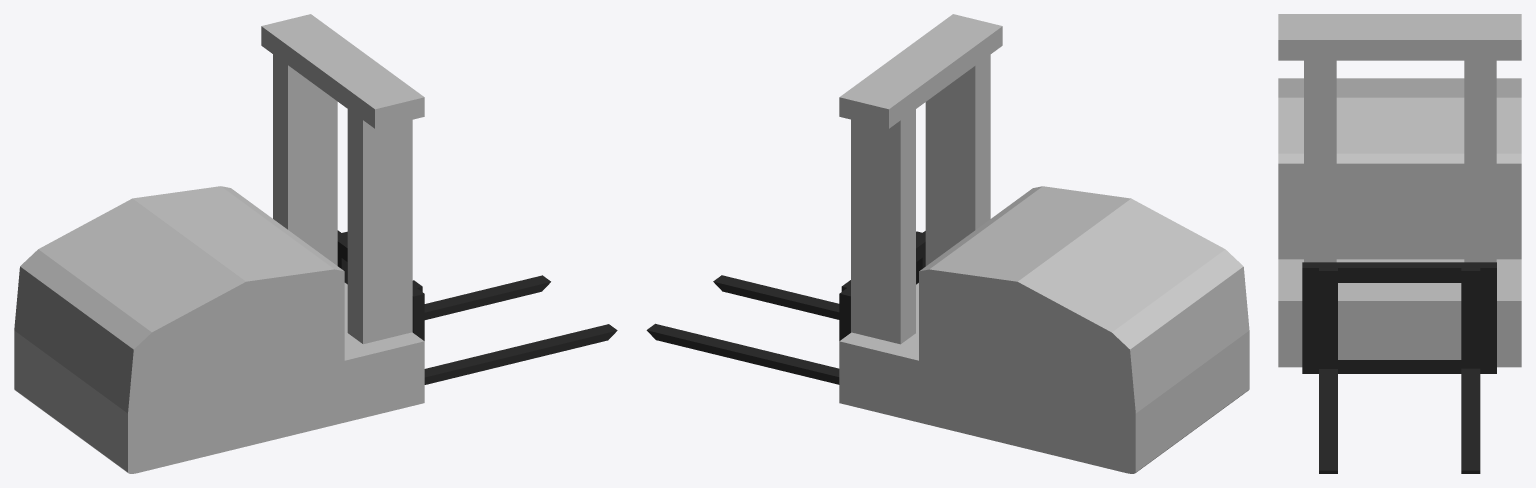
The model's file is robot_back.fbx.
3 renders of one model, left to right at view 1: azimuth 30°, elevation 25°; view 2: azimuth 150°, elevation 25°; view 3: azimuth 270°, elevation 25°, orthographic. The views are drawn at different scales.
Visible parts, largest first — view 1: body, fork; view 2: body, fork; view 3: body, fork.
Boxes of the visible parts, left/top/right/bottom form: body: left=14, top=14, right=424, bottom=473; fork: left=337, top=230, right=617, bottom=384; body: left=839, top=14, right=1249, bottom=473; fork: left=646, top=231, right=925, bottom=384; body: left=1278, top=14, right=1521, bottom=367; fork: left=1302, top=262, right=1496, bottom=473.
Bounding box in the file's own units: 258 × 149 × 100.
2 materials, 1 textured.
